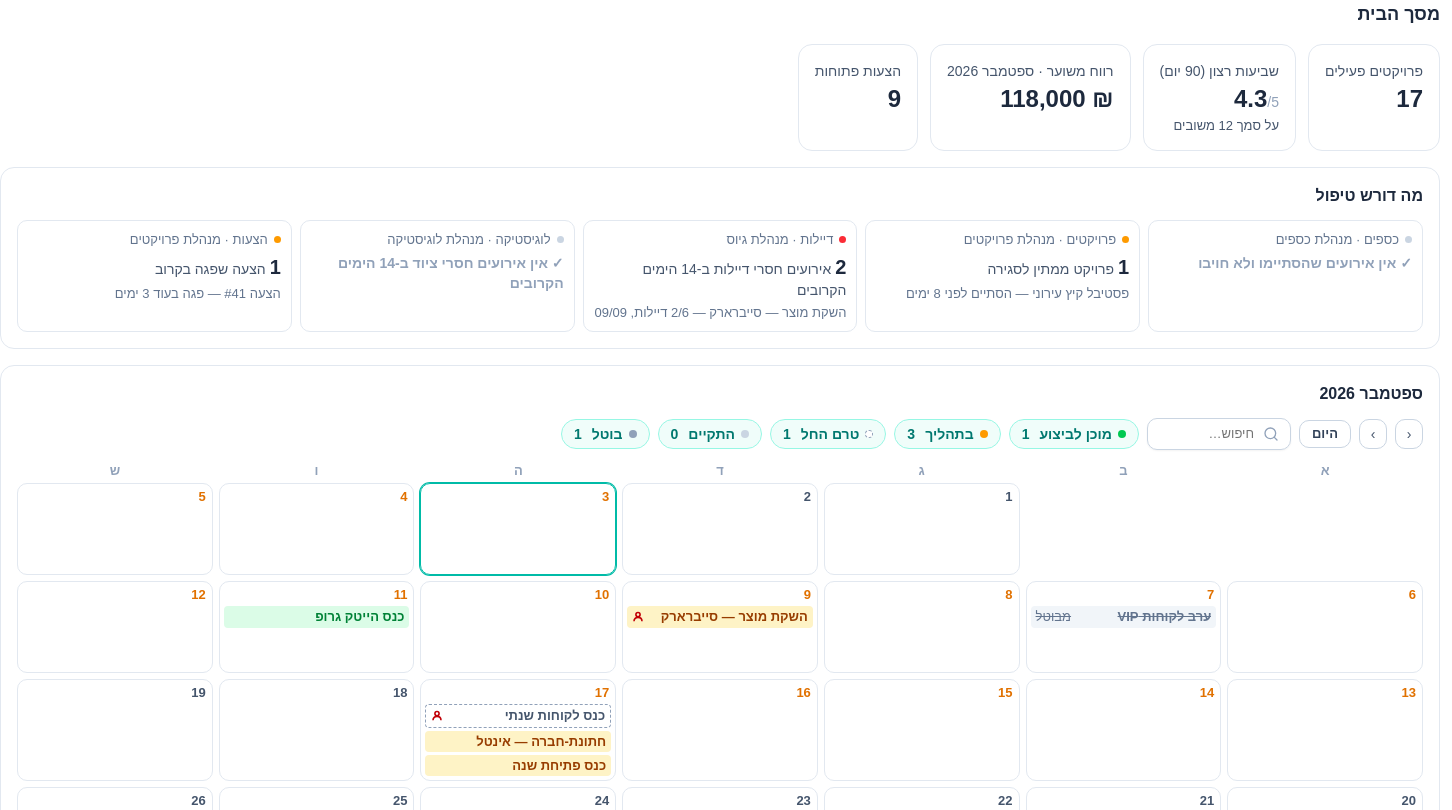
it: DashboardPage — לוח החודש › › קורא ל-getDashboardSummary עם החודש הבא, והכתובת מתעדכנת
Expected: the element with test id "kpi-active" is shown, [1308, 44, 1440, 151]
Click the button with test id "dashboard-cal-next" at (1373, 434), box [1359, 419, 1387, 449]
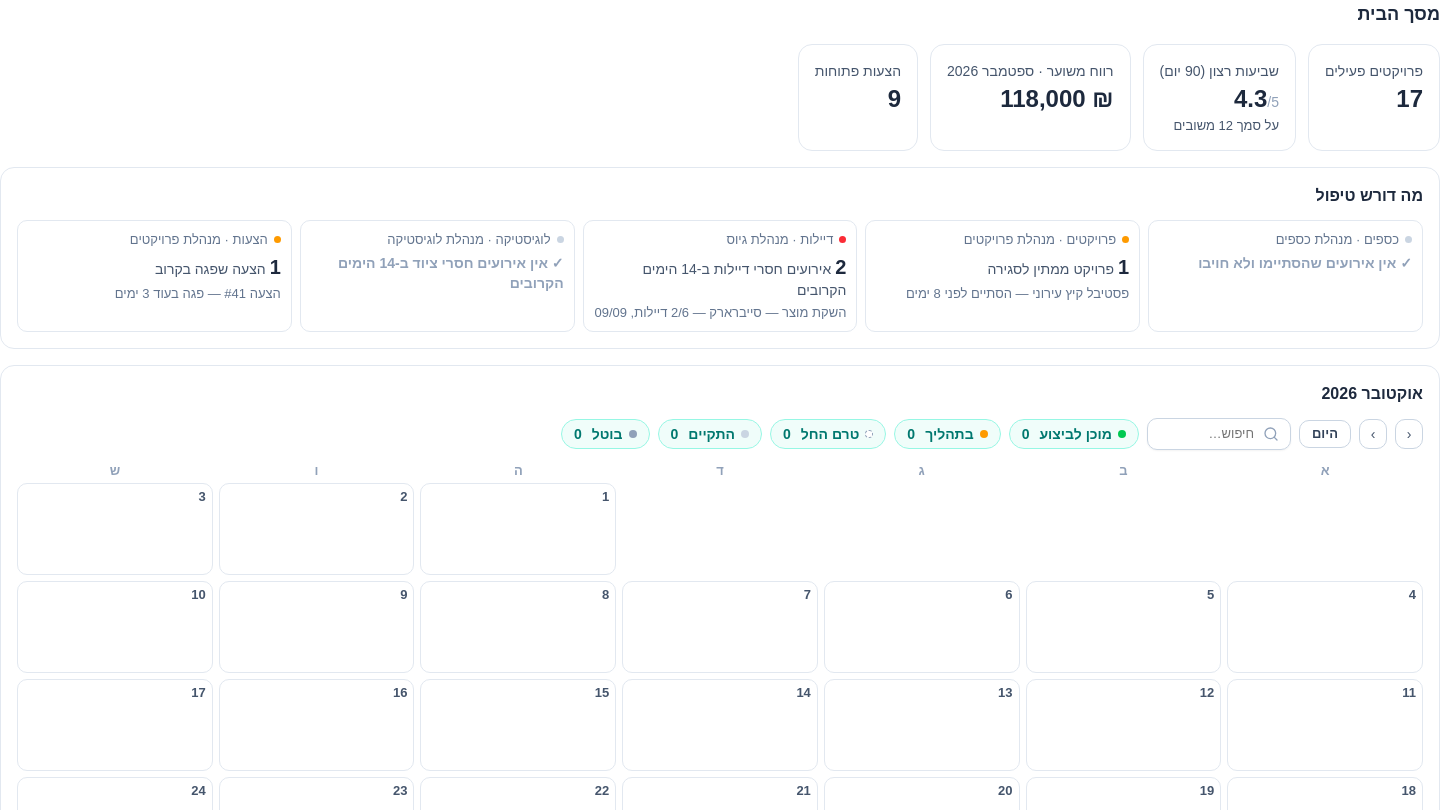
Expected: the heading "אוקטובר 2026" is shown, [1322, 385, 1423, 402]
